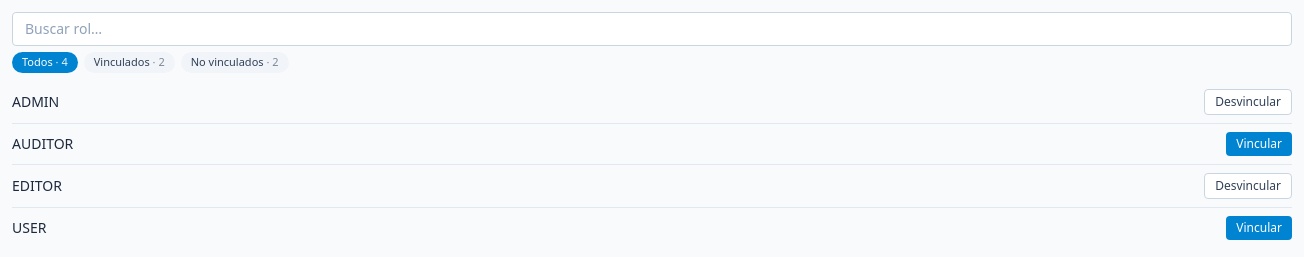
Test: BindingTab › tier 1 toolbar › search + chip compose (AND)
The width and height of the screenshot is (1304, 257).
Note: Vinculados only + "ed" → only EDITOR remains.
Click the button with test id "role-toggle-checked" at coordinates (129, 62), box [84,52,175,72]
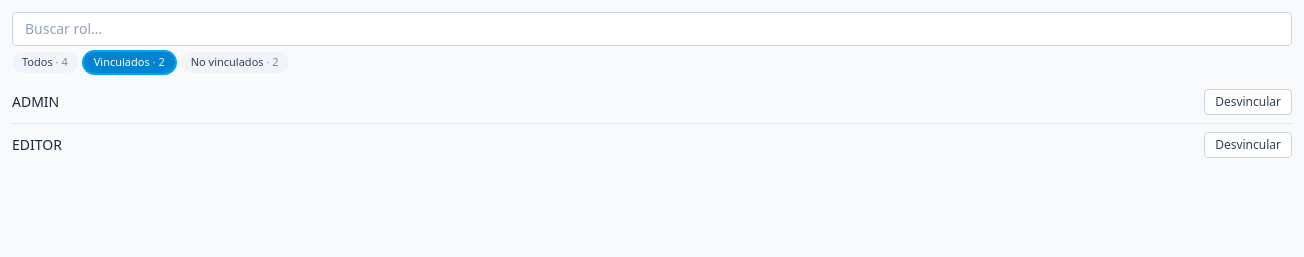
Type "ed" into the search field with test id "role-toggle-search" at coordinates (652, 29), box [12,12,1292,46]
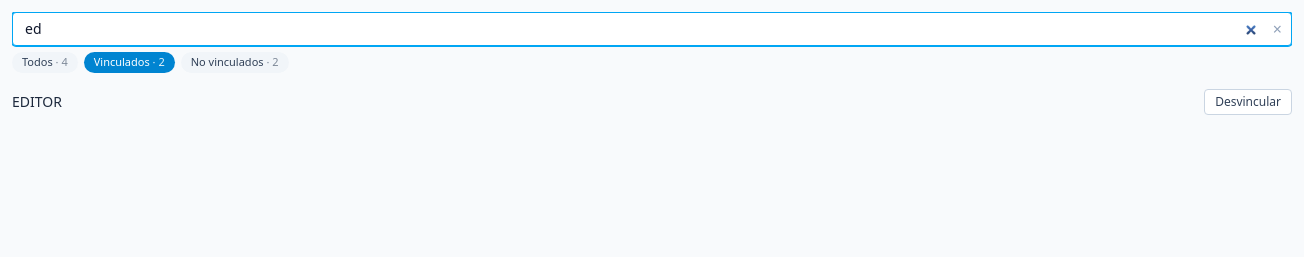
Expected: the list item with test id "role-toggle-row-3" is shown, [12,80,1292,122]
Result: the list item with test id "role-toggle-row-1" is gone
